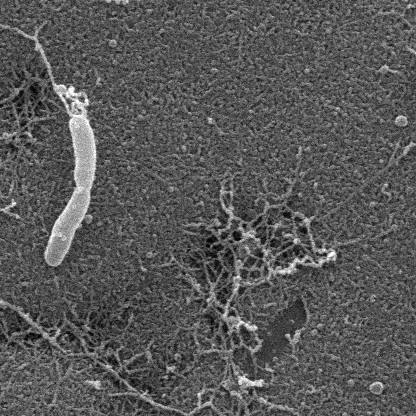cell2surface: (27, 26, 81, 113)
regular: (47, 187, 95, 267), (71, 119, 99, 189)
